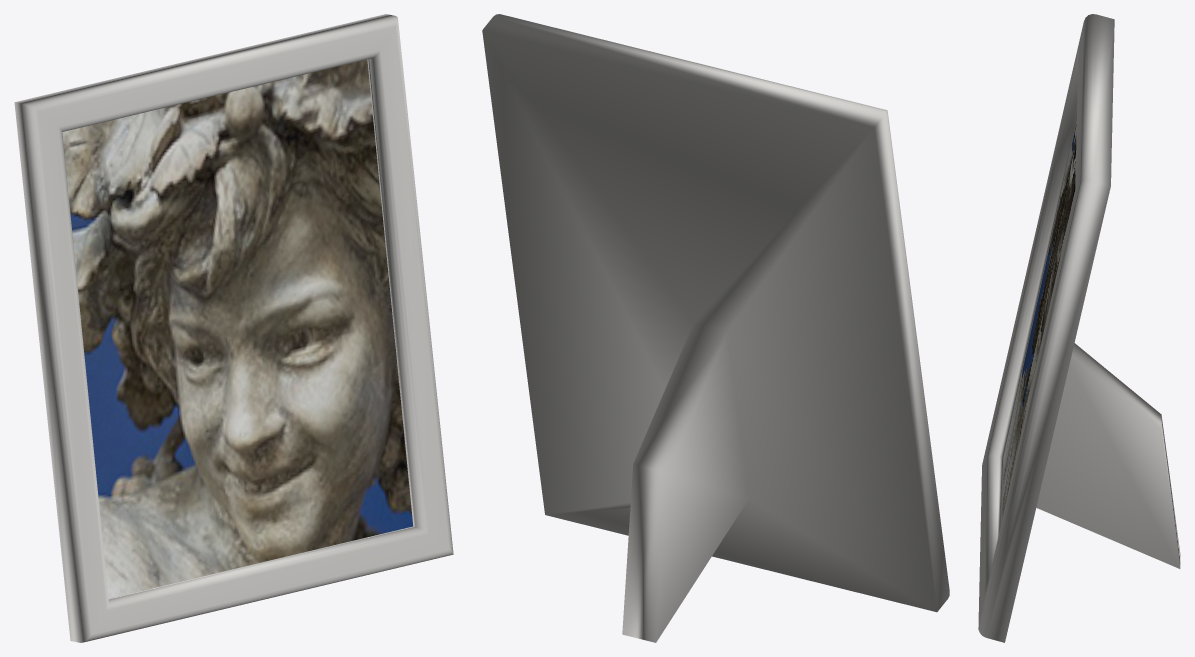
Rendered from porta_retrato.fbx.
3 views of the same model, side by side, from view 1: azimuth 30°, elevation 25°; view 2: azimuth 150°, elevation 25°; view 3: azimuth 270°, elevation 25° (orthographic). The views are drawn at different scales.
Parts seen in each view (by area): view 1: PR Picture Frame 2.Shape; view 2: PR Picture Frame 2.Shape; view 3: PR Picture Frame 2.Shape.
Boxes of the visible parts, bbox=[...] form: PR Picture Frame 2.Shape: bbox=[14, 14, 453, 642]; PR Picture Frame 2.Shape: bbox=[482, 14, 949, 642]; PR Picture Frame 2.Shape: bbox=[978, 14, 1180, 642].
Bounding box in the file's own units: 13.13 × 17.05 × 6.71.
Materials: 2 (1 with a texture image).
